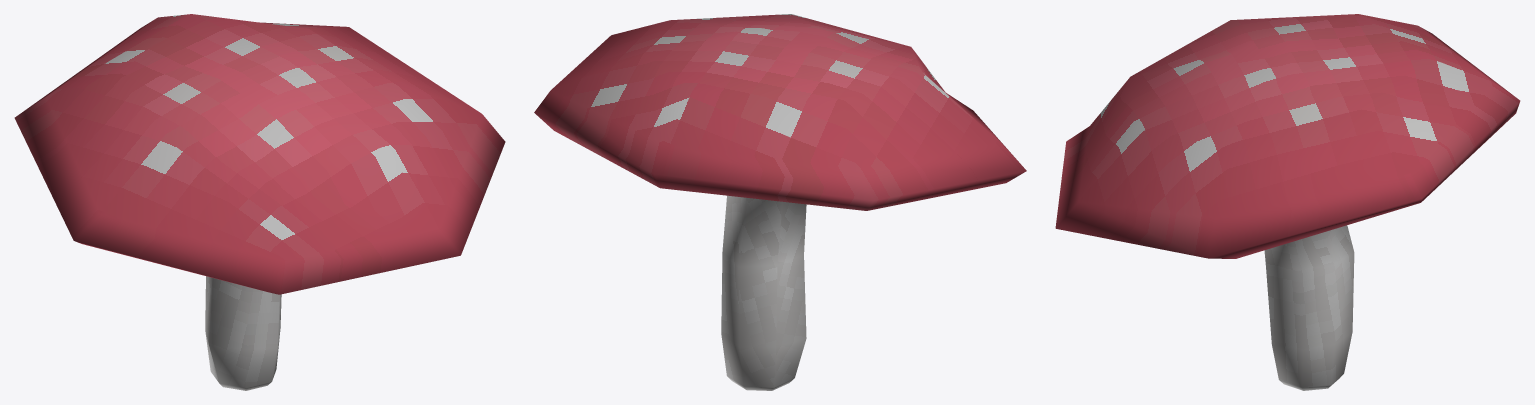
File: MushroomRed.fbx
3 views of the same model, side by side, from view 1: azimuth 30°, elevation 25°; view 2: azimuth 150°, elevation 25°; view 3: azimuth 270°, elevation 25° (orthographic). The views are drawn at different scales.
Parts seen in each view (by area): view 1: red_mushroom; view 2: red_mushroom; view 3: red_mushroom.
Part boxes in pixels (x1,y1,x2,y2): red_mushroom: [14, 14, 505, 390]; red_mushroom: [534, 14, 1026, 390]; red_mushroom: [1055, 14, 1520, 390].
Bounding box in the file's own units: 0.1948 × 0.1402 × 0.182.
